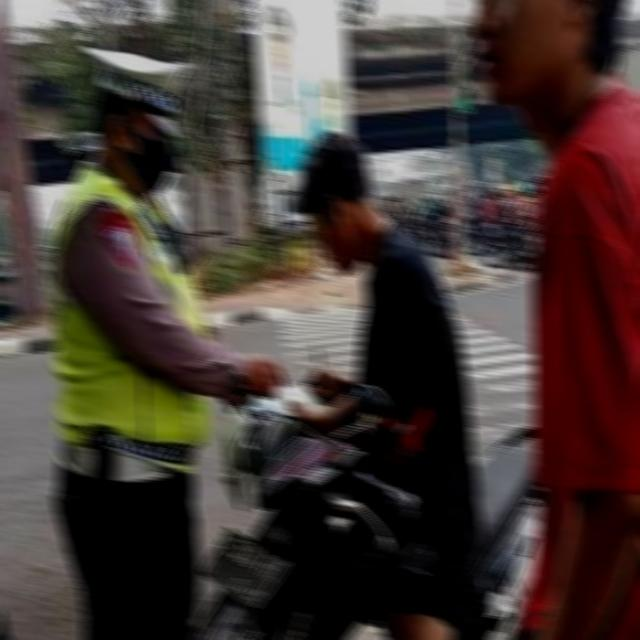Without Helmet: (295, 134, 389, 278)
